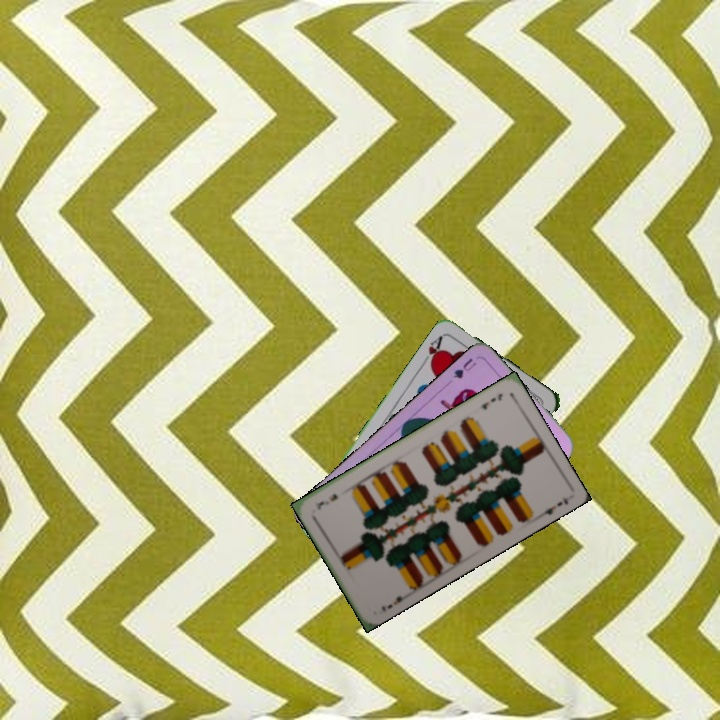E7: (377, 590, 410, 614), (478, 389, 505, 412)
GU: (449, 354, 479, 381)
HA: (418, 331, 445, 370)
